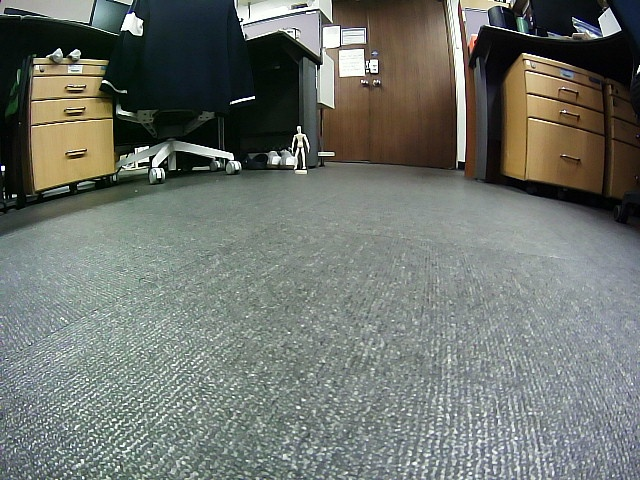person: (292, 125, 310, 169)
